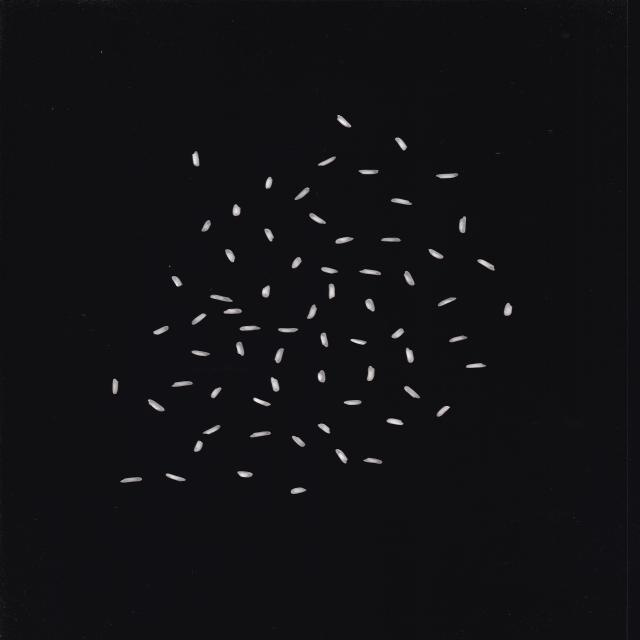Chalky: (478, 259, 497, 271), (336, 114, 352, 128), (148, 399, 165, 412), (294, 187, 311, 200), (404, 386, 421, 398), (317, 156, 337, 166), (394, 137, 408, 151), (335, 449, 348, 464), (191, 313, 207, 325), (403, 270, 415, 286), (202, 424, 221, 434), (166, 473, 187, 482), (309, 213, 326, 224), (210, 294, 233, 302), (437, 405, 452, 417), (253, 398, 271, 407), (437, 298, 457, 306), (274, 348, 284, 364), (390, 198, 412, 205), (391, 328, 405, 339), (294, 436, 308, 447), (449, 335, 468, 343), (428, 249, 443, 259), (307, 304, 317, 319), (270, 377, 280, 392), (250, 431, 271, 438), (154, 326, 170, 335), (320, 332, 329, 348), (210, 387, 222, 399), (225, 249, 236, 262), (201, 219, 212, 232), (502, 302, 512, 316), (264, 228, 274, 242), (365, 298, 375, 312), (120, 477, 143, 483), (171, 381, 194, 387), (359, 269, 382, 275), (459, 216, 467, 233), (405, 348, 414, 363), (366, 366, 375, 381), (335, 237, 354, 244), (436, 173, 458, 179), (171, 276, 183, 287), (192, 151, 200, 167), (322, 266, 338, 274), (328, 284, 336, 300), (386, 418, 404, 425), (363, 458, 383, 464), (292, 257, 302, 269), (240, 325, 260, 331), (318, 424, 330, 434), (290, 487, 307, 494), (350, 338, 367, 345), (317, 370, 326, 383), (223, 308, 242, 314), (240, 471, 256, 478), (236, 342, 244, 356), (465, 363, 487, 368), (194, 440, 203, 452), (232, 204, 241, 216), (262, 285, 270, 298), (381, 237, 401, 242), (278, 328, 298, 333), (112, 378, 118, 394), (265, 177, 273, 189), (191, 351, 210, 356), (343, 400, 362, 405), (358, 170, 379, 174)
